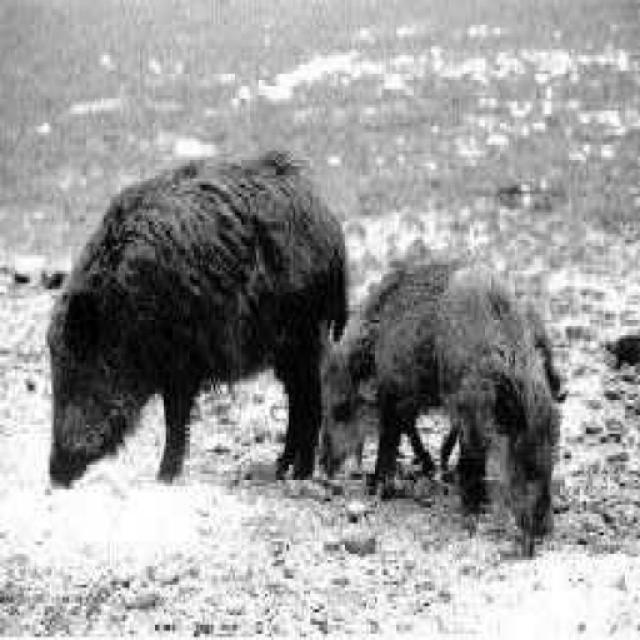pig: (38, 141, 342, 563), (424, 247, 584, 556), (300, 220, 480, 475)
